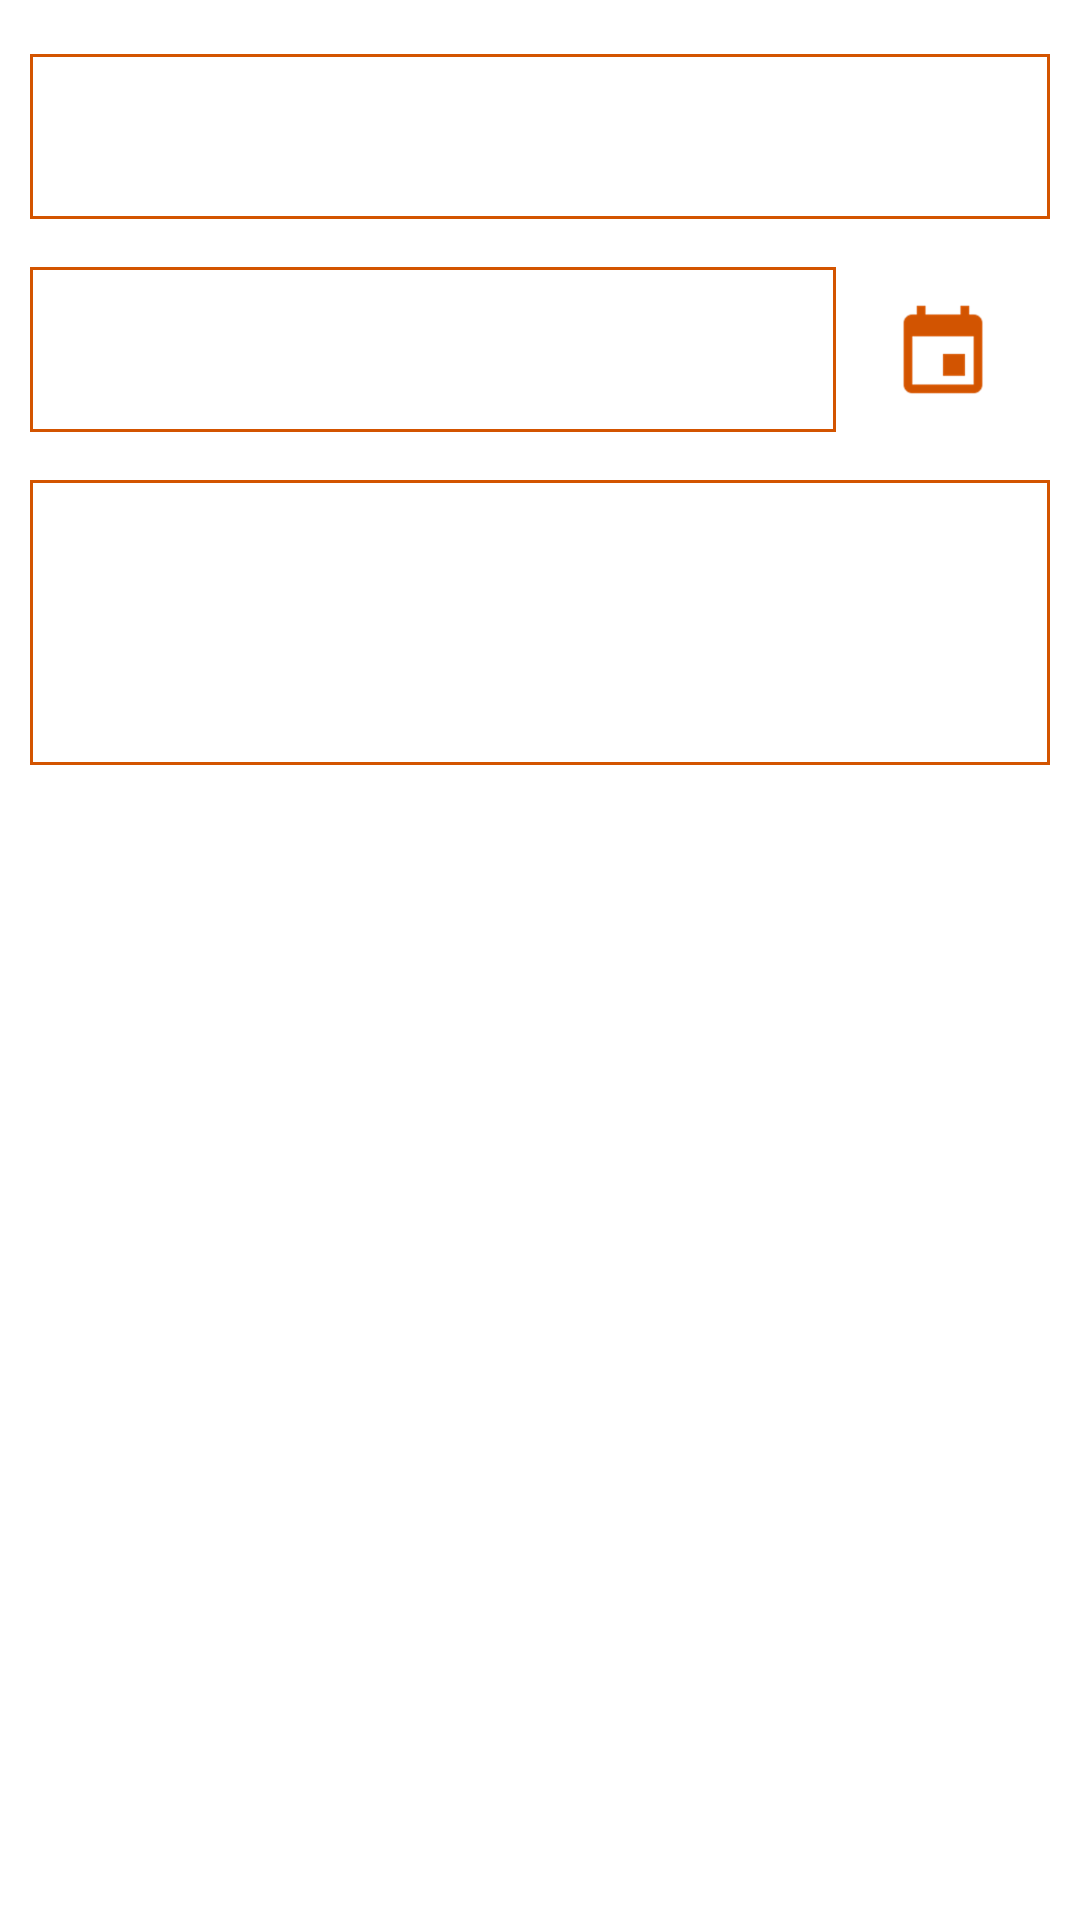

Point at icon controls on the screen. Image size 1080 x 1920, points as point (x, y).
calendar: point (943, 349)
